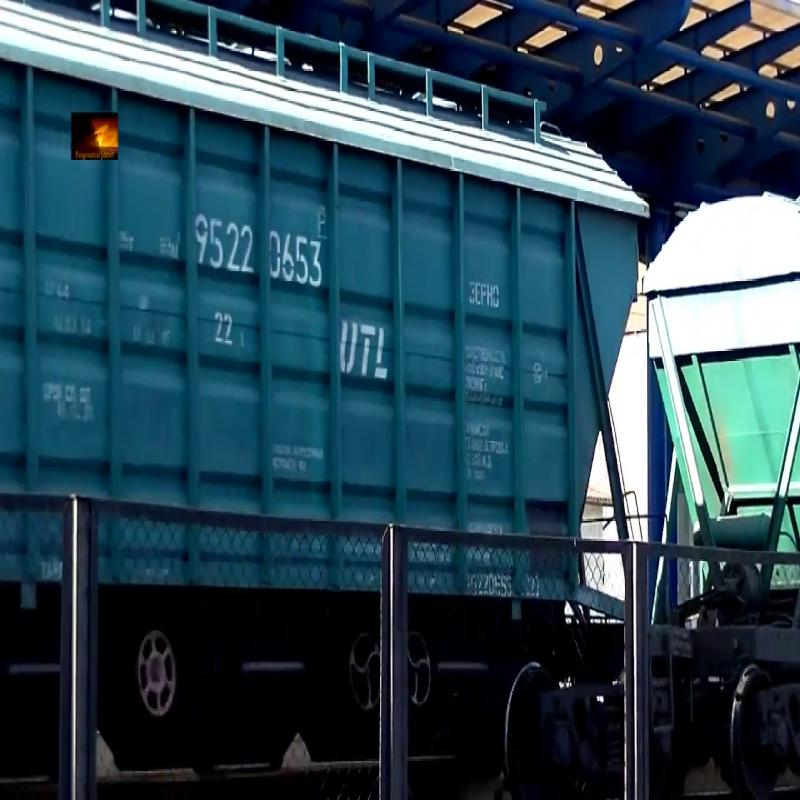train: (2, 9, 687, 781), (716, 1, 800, 778)
